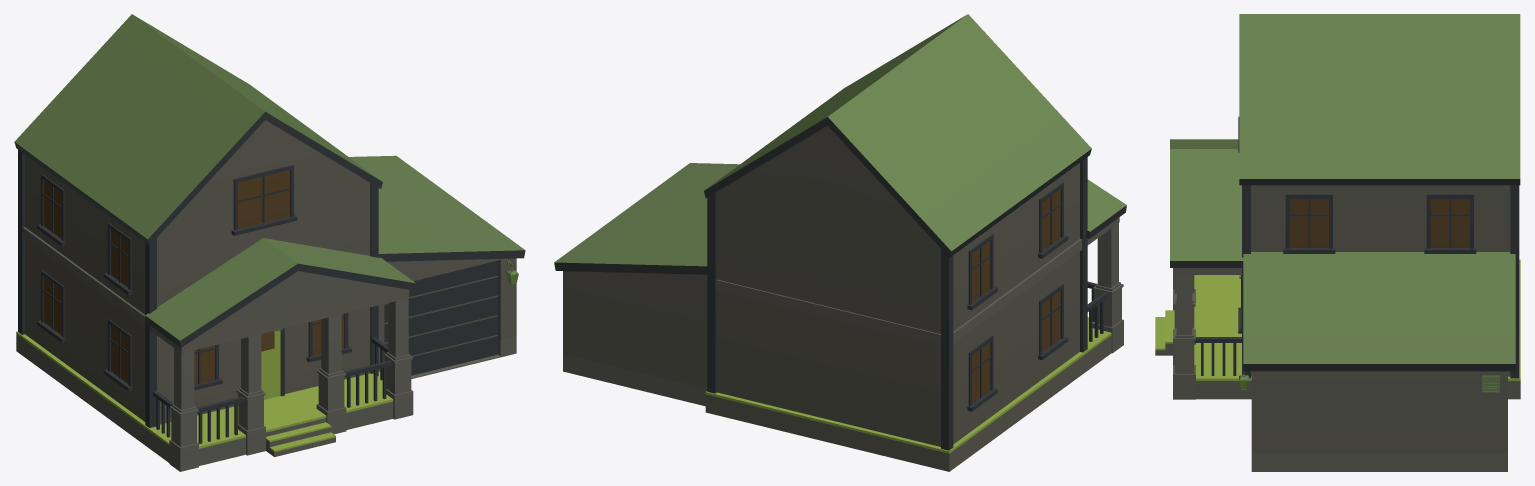
File: SuburbHouse_06.fbx
The picture shows the model from 3 angles, left to right: view 1: azimuth 30°, elevation 25°; view 2: azimuth 150°, elevation 25°; view 3: azimuth 270°, elevation 25°; orthographic projection. The views are drawn at different scales.
Parts seen in each view (by area): view 1: SuburbHouse_06; view 2: SuburbHouse_06; view 3: SuburbHouse_06.
Part boxes in pixels (<box>): SuburbHouse_06: <box>14,14,525,471</box>; SuburbHouse_06: <box>554,14,1126,471</box>; SuburbHouse_06: <box>1155,14,1520,471</box>.
Bounding box in the file's own units: 10.2 × 7.92 × 8.06.
